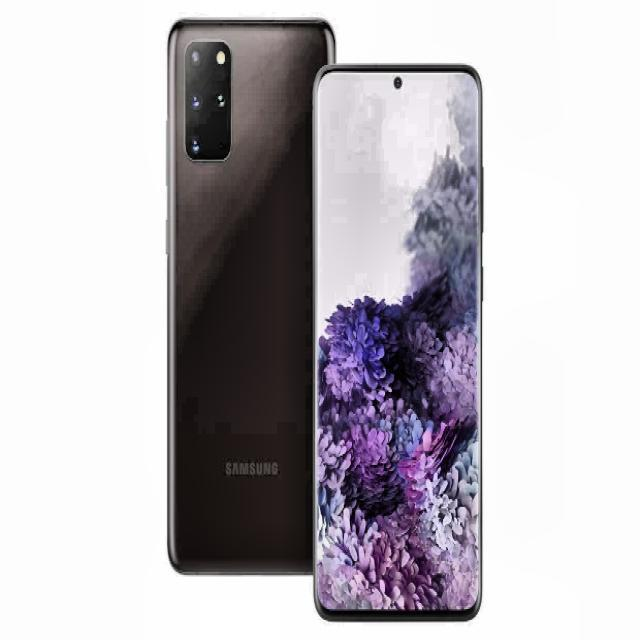Phone: (312, 59, 485, 624), (166, 14, 339, 576)
